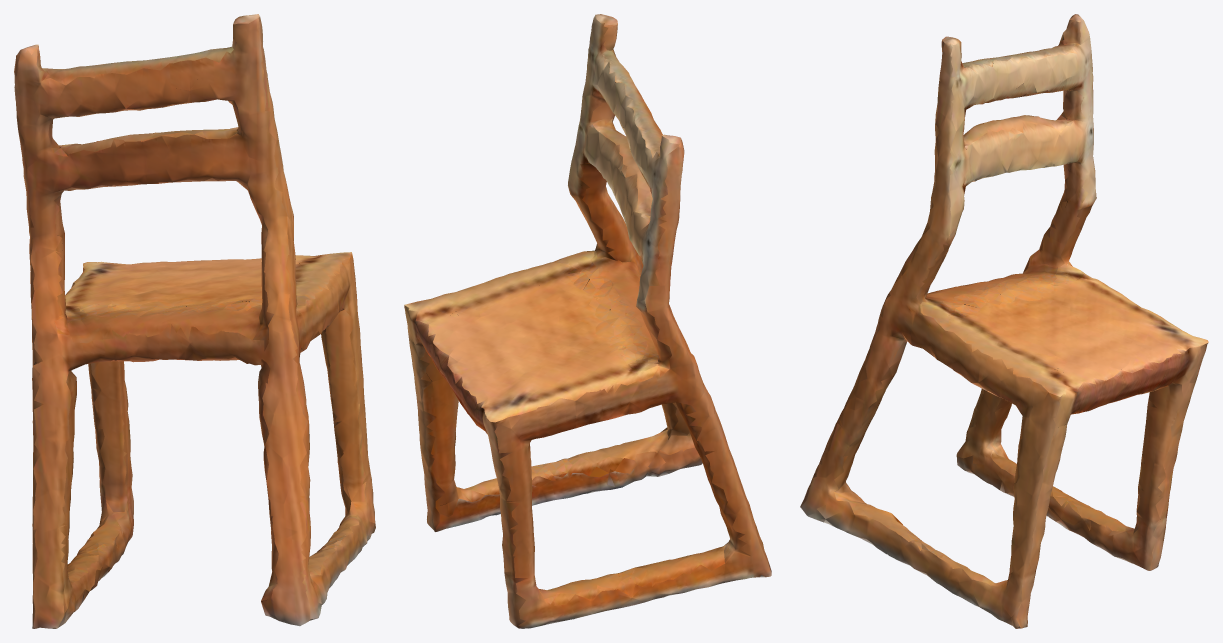
The picture shows the model from 3 angles, left to right: view 1: azimuth 30°, elevation 25°; view 2: azimuth 150°, elevation 25°; view 3: azimuth 270°, elevation 25°; orthographic projection. The views are drawn at different scales.
Visible parts, largest first — view 1: world; view 2: world; view 3: world.
Boxes of the visible parts, x1=… form: world: x1=14, y1=14, x2=375, y2=628; world: x1=404, y1=14, x2=771, y2=628; world: x1=800, y1=14, x2=1208, y2=628.
Size of the model in its own units: 0.5625 by 0.8824 by 0.6089.
1 material, 1 textured.
